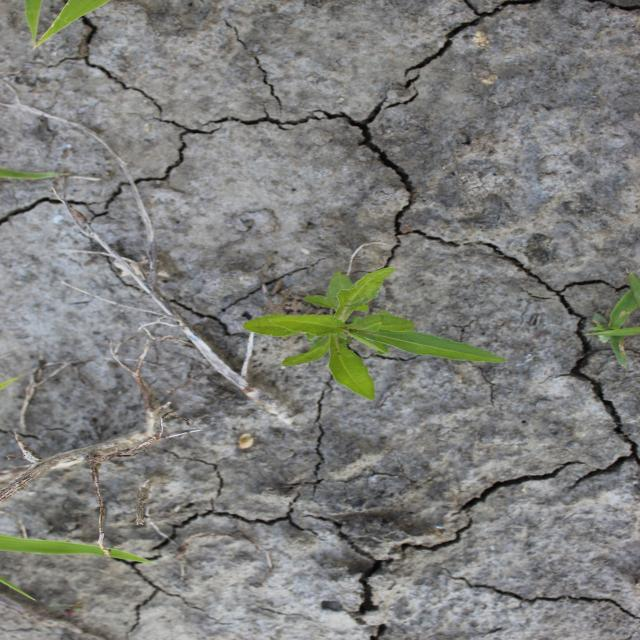Eclipta: (240, 266, 509, 402)
